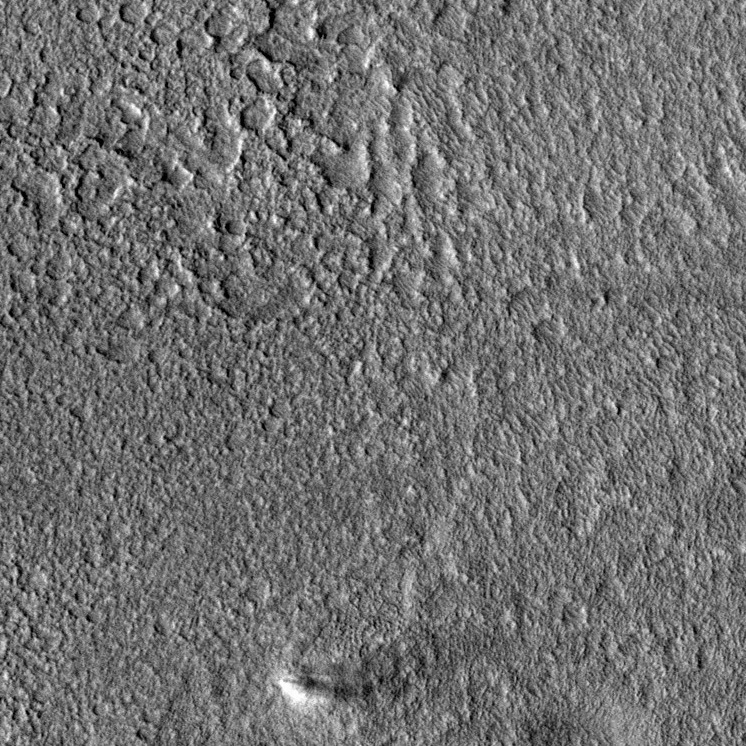dust_devil: (272, 662, 404, 716)
